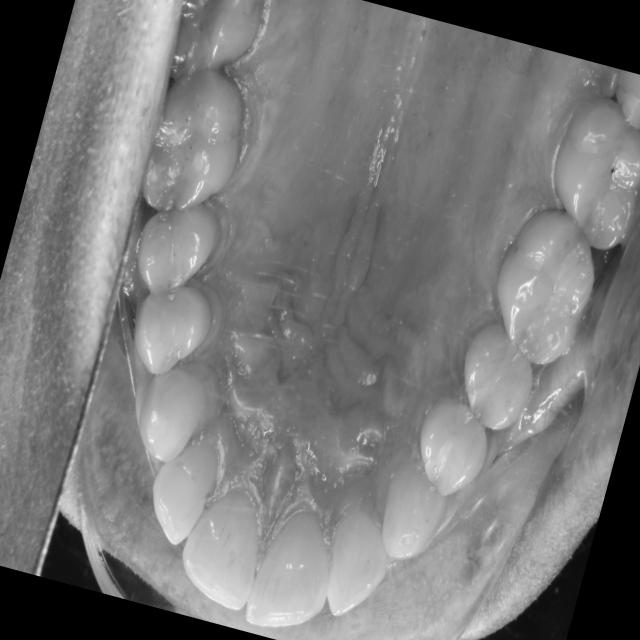tooth: (465, 169, 633, 383), (126, 52, 280, 246), (154, 454, 297, 634), (523, 70, 640, 272), (345, 435, 471, 593), (115, 179, 249, 326), (126, 428, 248, 589), (115, 343, 229, 493), (235, 502, 355, 640), (444, 306, 556, 451), (400, 382, 517, 517), (112, 259, 227, 394), (303, 491, 407, 636), (160, 0, 282, 104), (587, 65, 640, 143)
